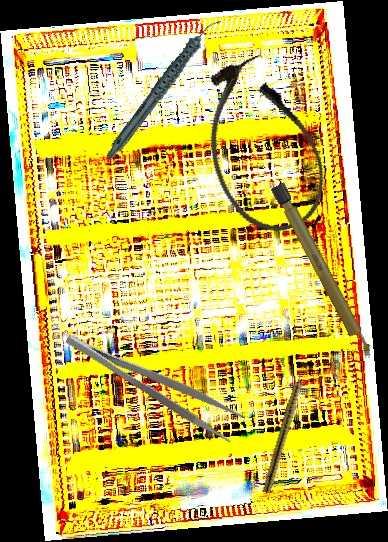Cannula: (183, 46, 341, 246)
Dressing Forceps: (62, 315, 247, 447)
Handpiece: (82, 16, 245, 161), (262, 368, 308, 495)
Scalpel Handle: (269, 182, 376, 362)
